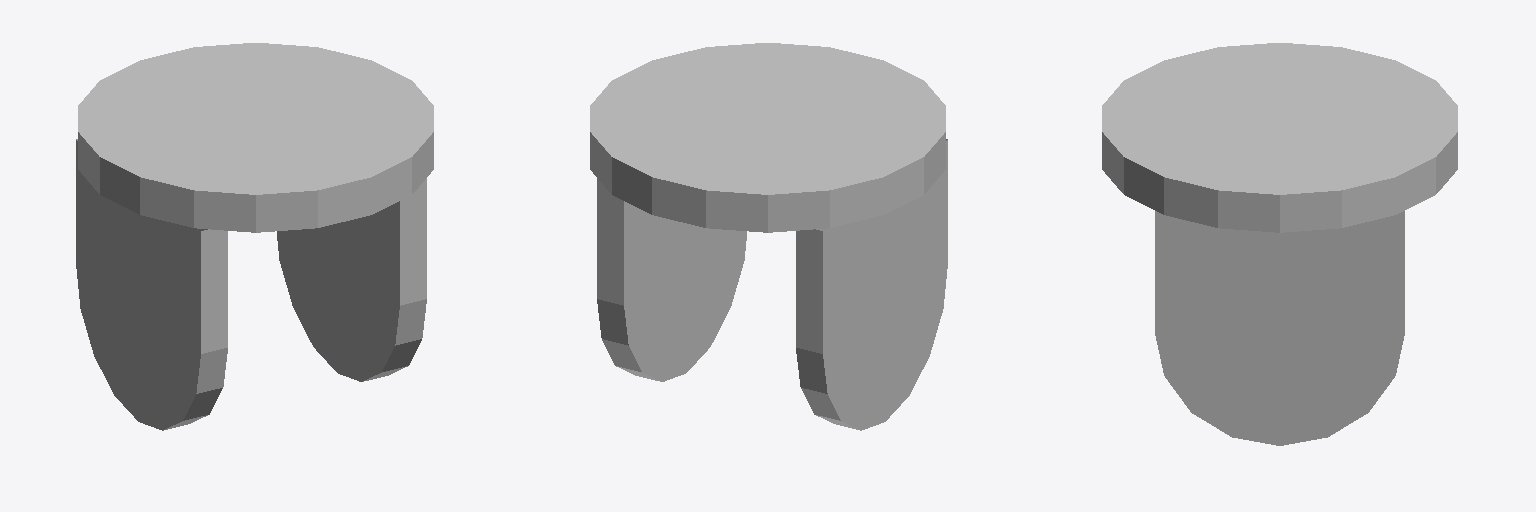
The model's file is leftArm1.obj.
3 renders of one model, left to right at view 1: azimuth 30°, elevation 25°; view 2: azimuth 150°, elevation 25°; view 3: azimuth 270°, elevation 25°, orthographic.
Parts seen in each view (by area): view 1: unnamed_object1; view 2: unnamed_object1; view 3: unnamed_object1.
Boxes of the visible parts, x1=… form: unnamed_object1: x1=76, y1=43, x2=433, y2=430; unnamed_object1: x1=590, y1=43, x2=947, y2=430; unnamed_object1: x1=1102, y1=43, x2=1457, y2=445.
Size of the model in its own units: 8.64 by 7.25 by 8.51.